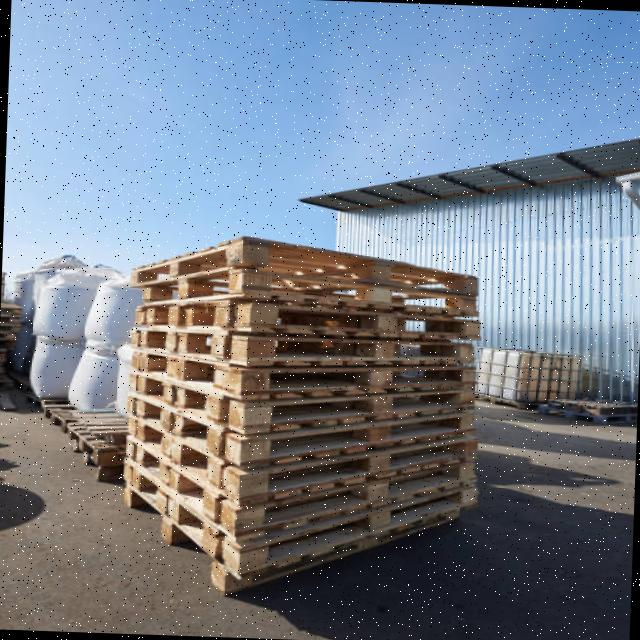Wooden-Pallets: (92, 484, 485, 603), (116, 435, 484, 544), (117, 236, 490, 308), (111, 373, 477, 429), (122, 322, 479, 366)
